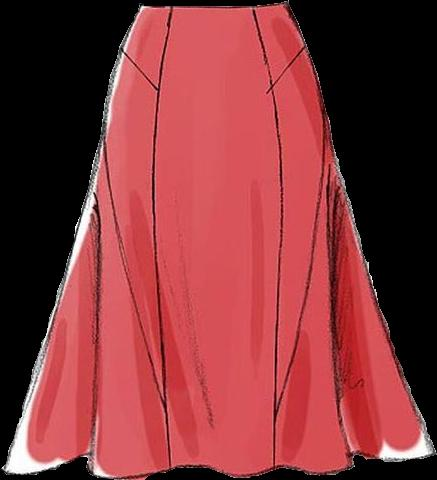Hemline: (1, 449, 436, 479)
Waistline: (140, 0, 286, 11)
